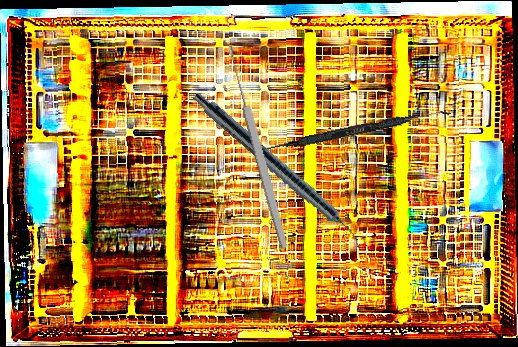Handpiece: (187, 89, 370, 251)
Spatula Surgical: (260, 103, 451, 158)
Surgical Spoon: (224, 43, 291, 251)
